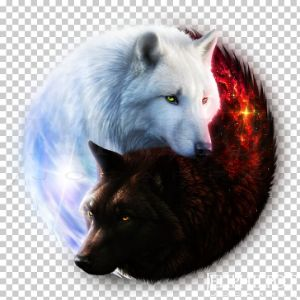wolf: (84, 28, 224, 156), (70, 139, 194, 280)
